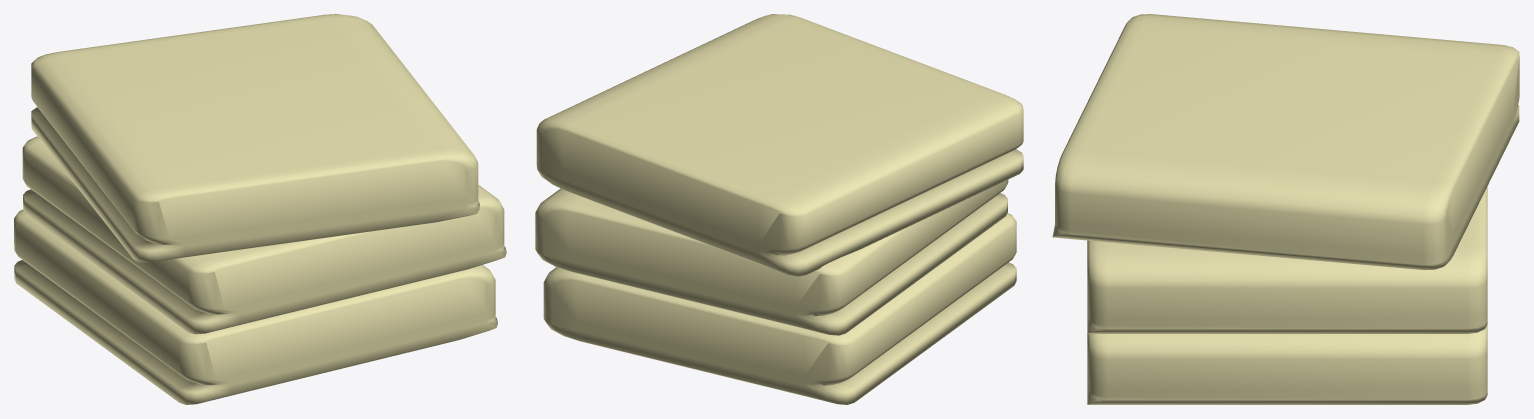
File: stackOfTowels.fbx
The picture shows the model from 3 angles, left to right: view 1: azimuth 30°, elevation 25°; view 2: azimuth 150°, elevation 25°; view 3: azimuth 270°, elevation 25°; orthographic projection. The views are drawn at different scales.
Parts seen in each view (by area): view 1: Stack of Towels; view 2: Stack of Towels; view 3: Stack of Towels.
Part boxes in pixels (x1,y1,x2,y2): Stack of Towels: (14, 14, 506, 404); Stack of Towels: (535, 14, 1023, 404); Stack of Towels: (1052, 14, 1519, 404).
Size of the model in its own units: 47.52 by 47.73 by 25.26.
